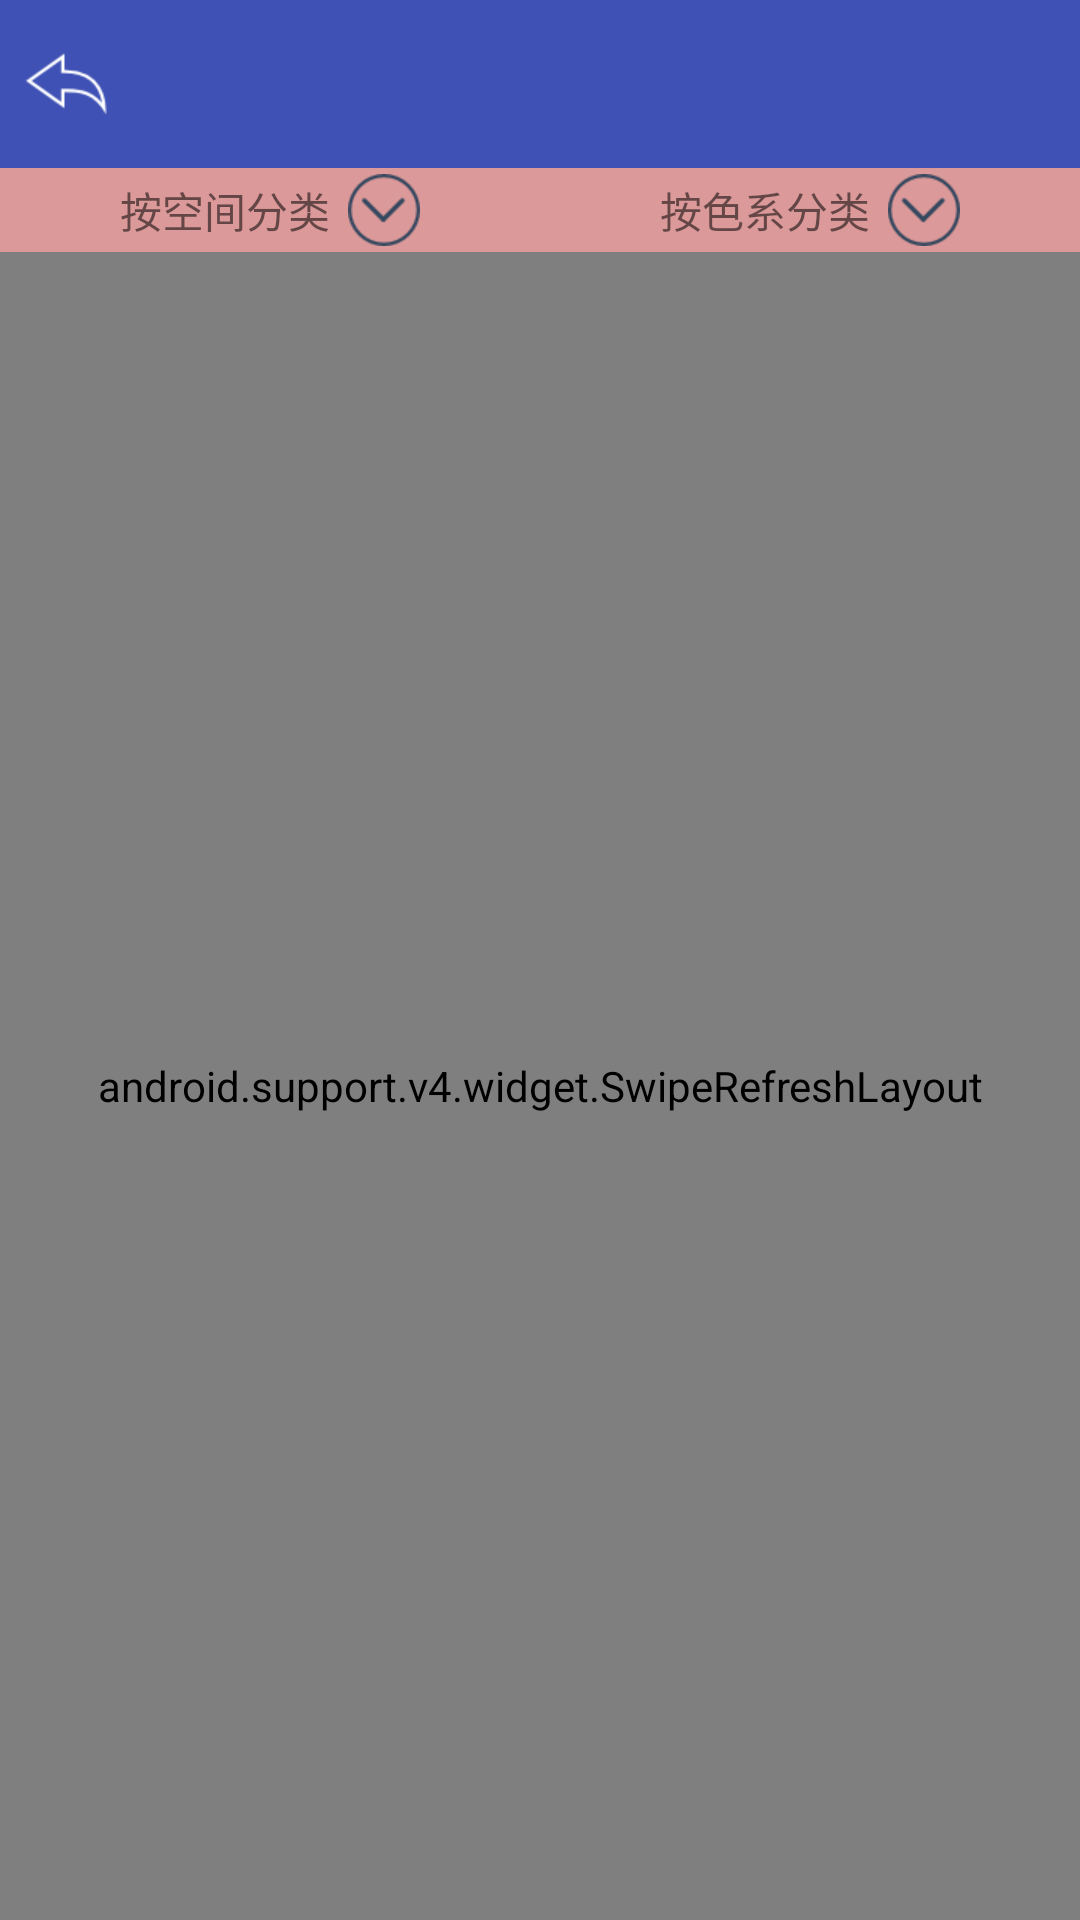

Screen size 1080×1920. Icon name, then its box in pixels as (x1, y1, x2, y2):
back: (26, 53, 107, 114)
